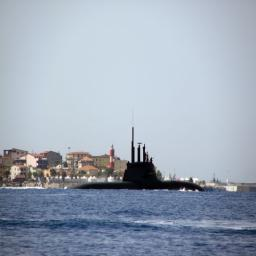submarine: (64, 128, 218, 190)
